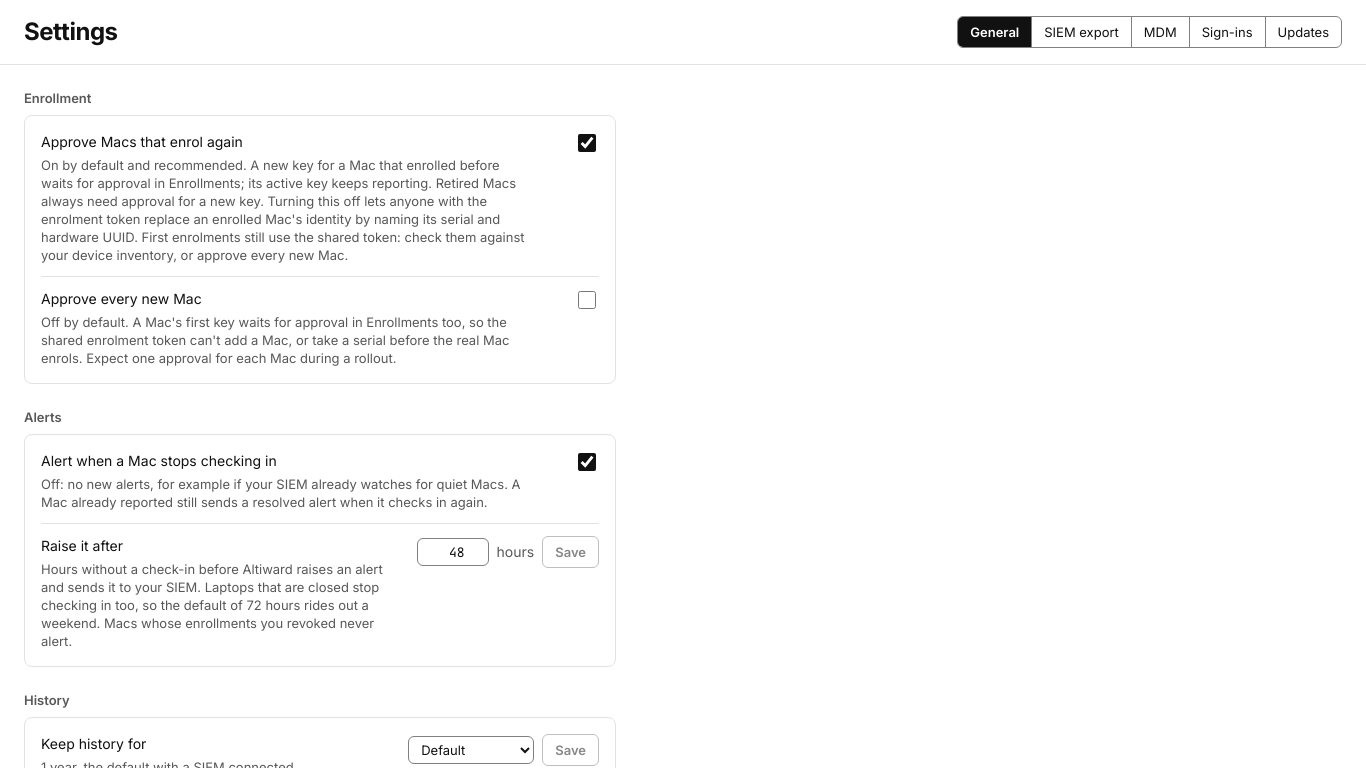
Settings › keep history for › saves nothing when the sheet is cancelled
This screenshot has width=1366, height=768.
Select "Days" in the dropdown labelled "Keep history for" at (471, 750), box [408, 736, 534, 764]
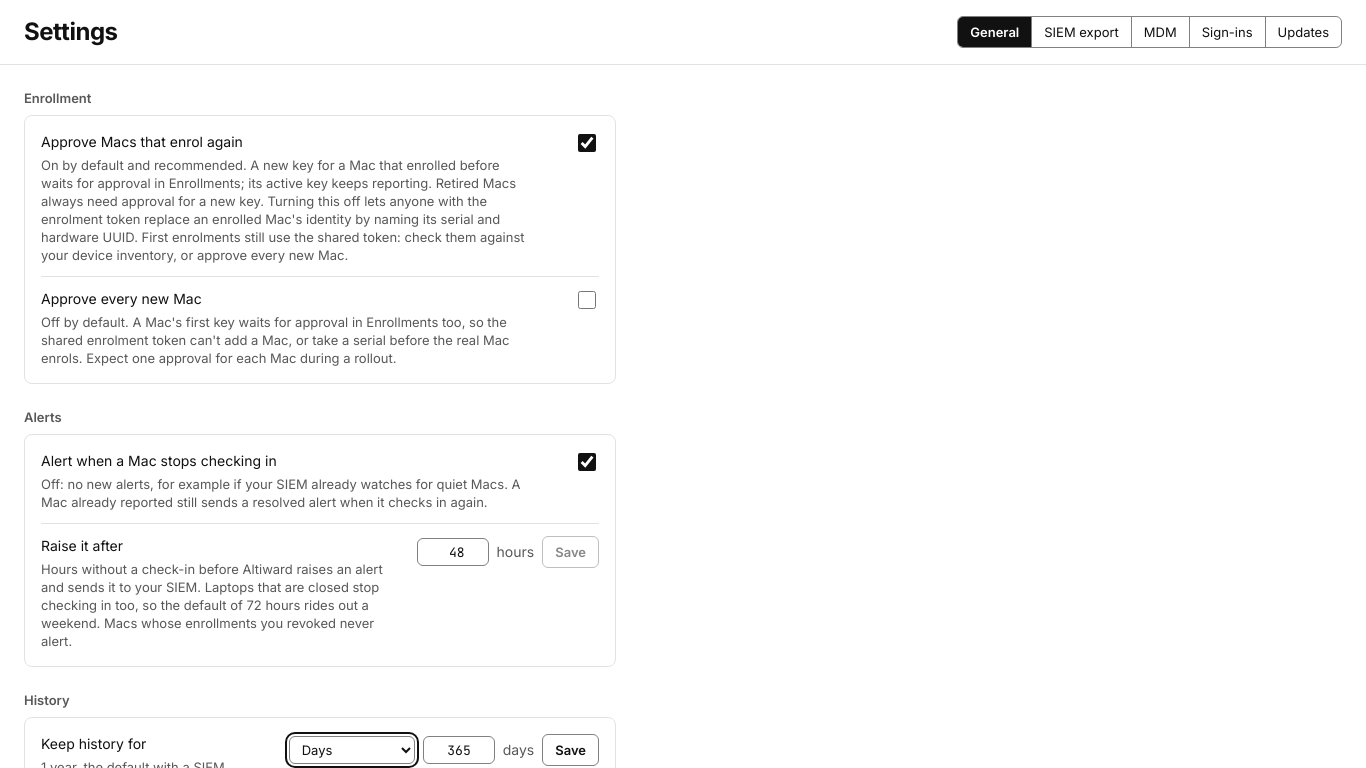
Replace the text in the number field named "Days of history" with "120" at (459, 750), box [423, 736, 495, 764]
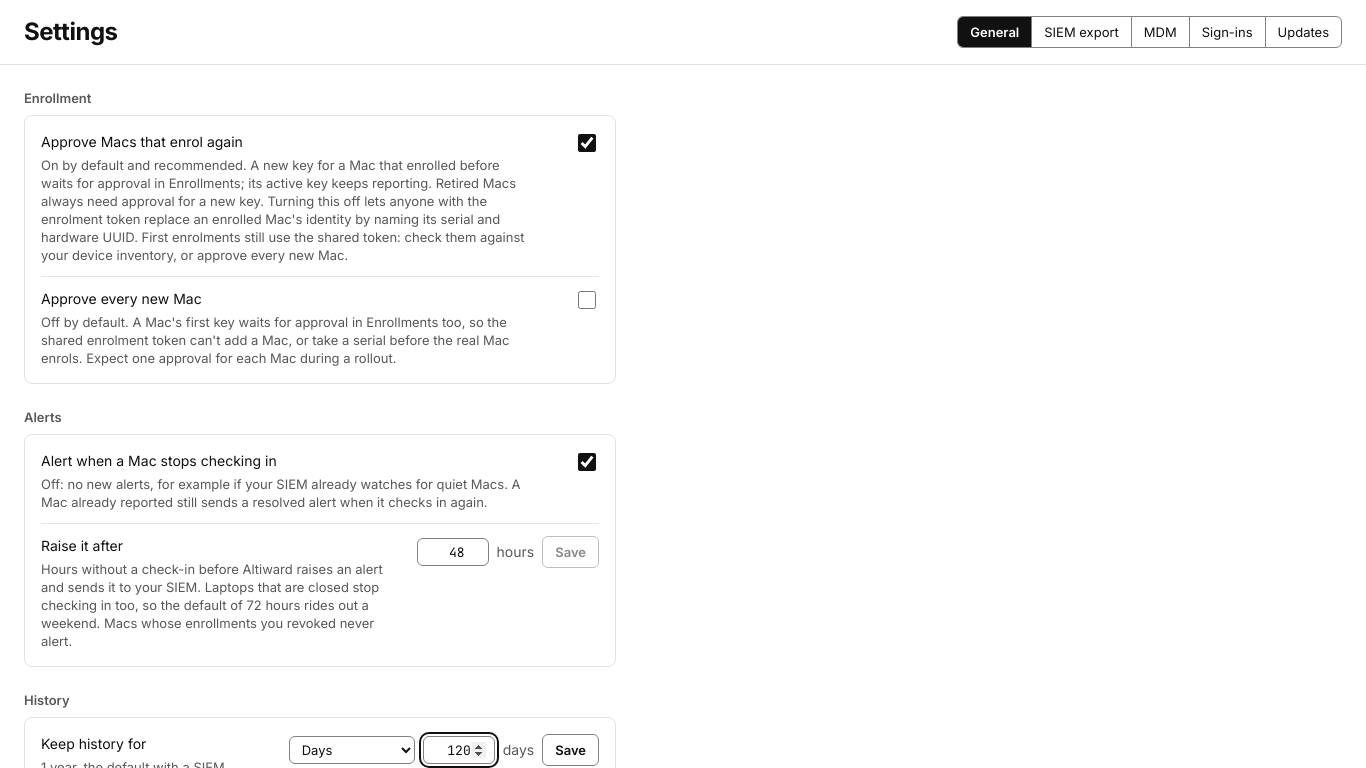
Click the button with aria-label "Save history period".
click(571, 750)  # box [542, 734, 599, 766]
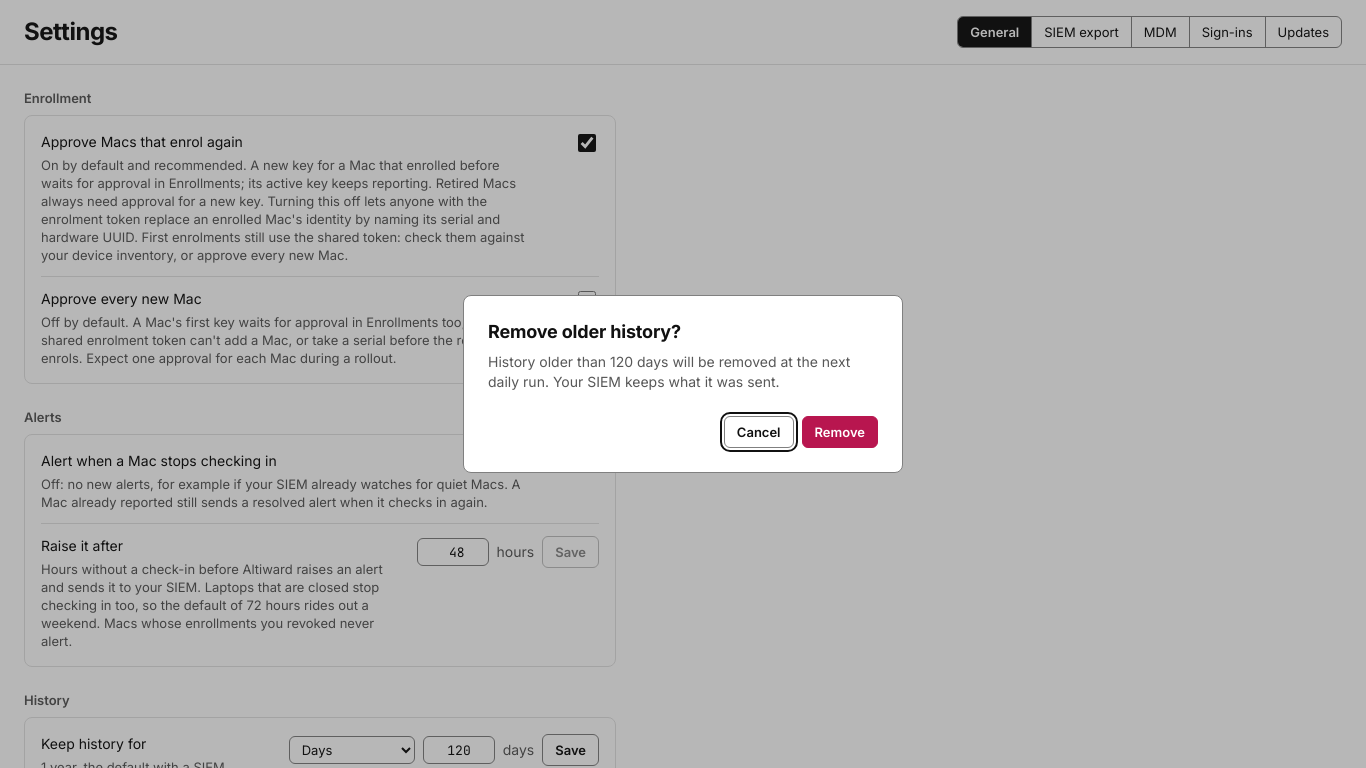
Click the button "Cancel".
click(759, 432)  # box [724, 416, 794, 448]
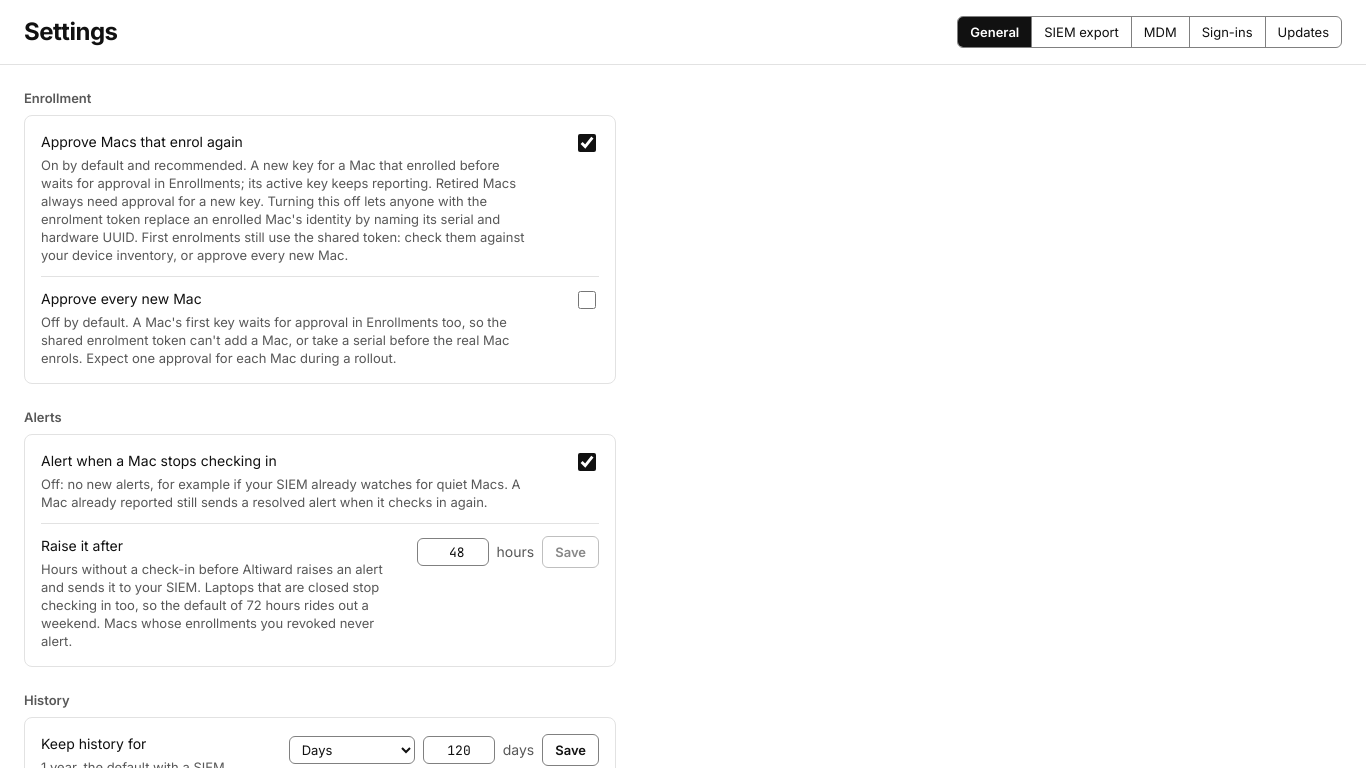
Expected: the dialog is gone
